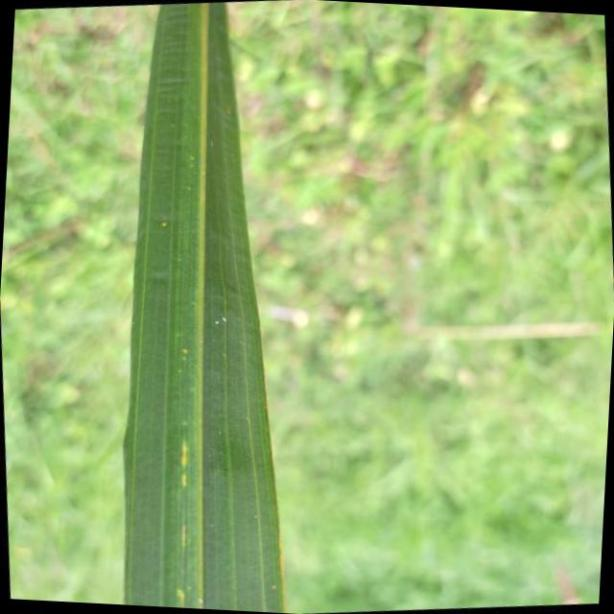Boron: (121, 0, 288, 614)
